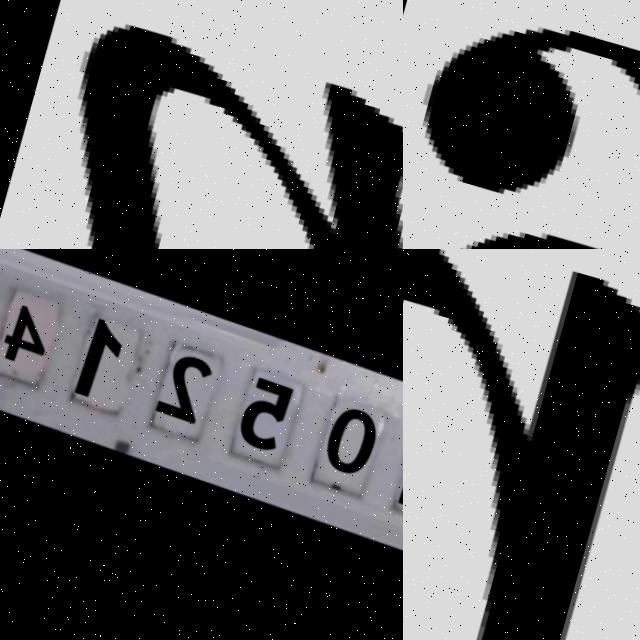0: (314, 384, 395, 491)
1: (71, 306, 147, 411)
2: (149, 331, 230, 437)
4: (0, 284, 67, 382)
5: (230, 361, 309, 462)
6: (403, 0, 640, 249)
N: (0, 0, 403, 249)
R: (403, 249, 640, 640)
